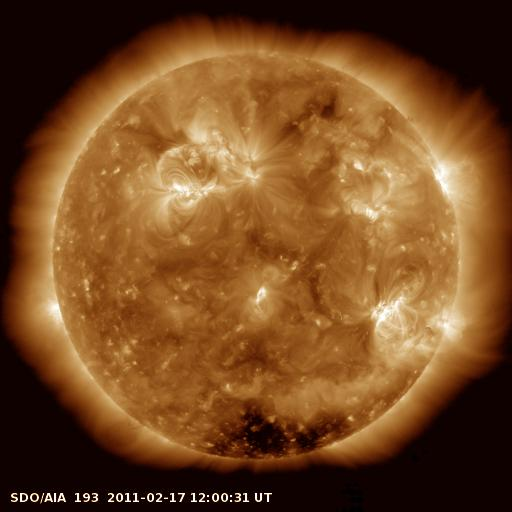coronal_hole: (188, 405, 364, 461)
